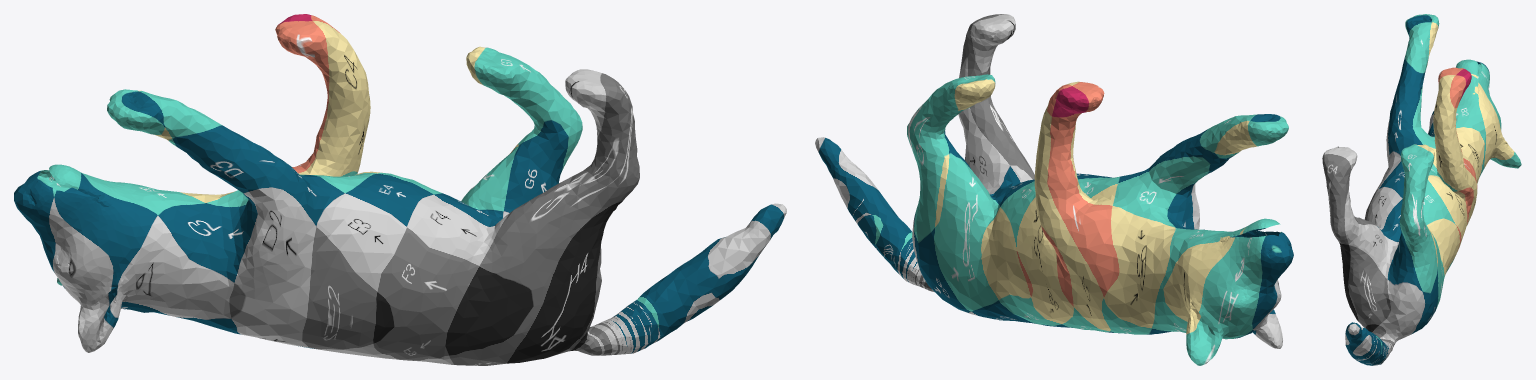
Rendered from hippo_06-wolf_01.obj.
3 views of the same model, side by side, from view 1: azimuth 30°, elevation 25°; view 2: azimuth 150°, elevation 25°; view 3: azimuth 270°, elevation 25° (orthographic). The views are drawn at different scales.
Parts seen in each view (by area): view 1: hippo_06-wolf_01_export; view 2: hippo_06-wolf_01_export; view 3: hippo_06-wolf_01_export.
Part boxes in pixels (x1=…): hippo_06-wolf_01_export: x1=14, y1=14, x2=786, y2=365; hippo_06-wolf_01_export: x1=815, y1=14, x2=1293, y2=365; hippo_06-wolf_01_export: x1=1322, y1=14, x2=1521, y2=365.
Size of the model in its own units: 1.14 by 0.5608 by 0.4731.
